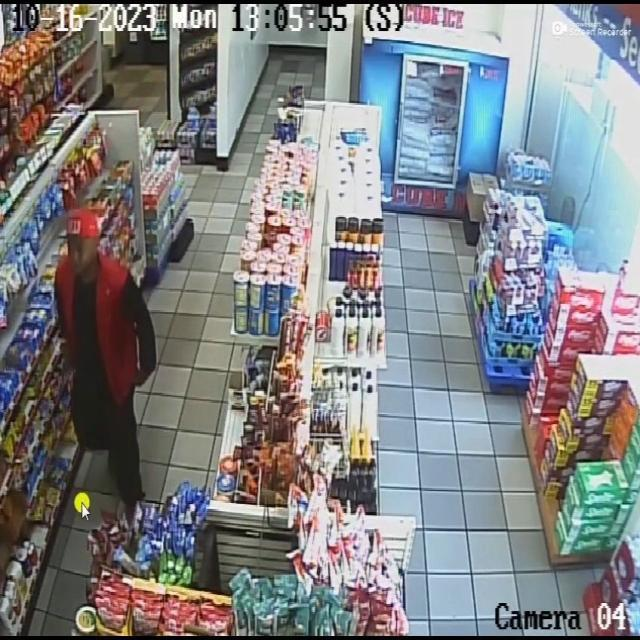normal: (57, 195, 156, 519)
